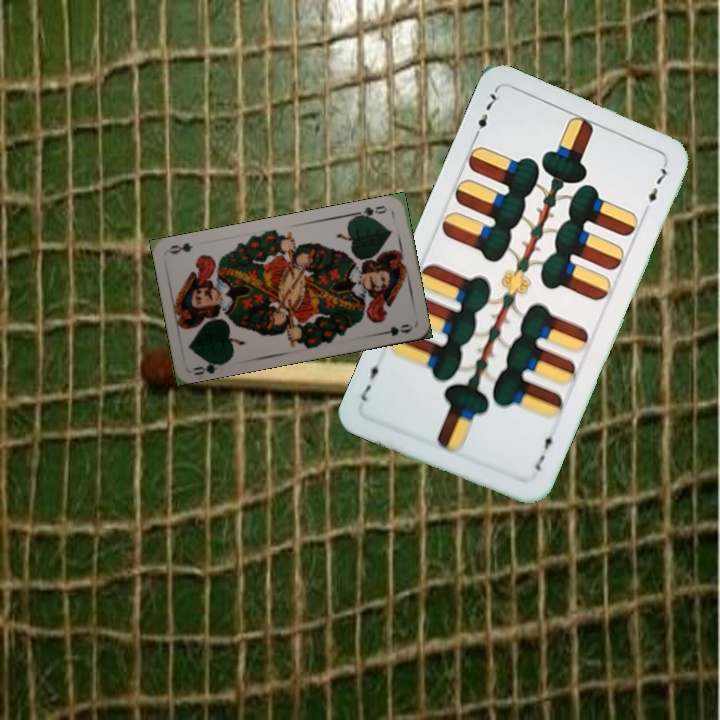E7: (469, 87, 503, 143), (531, 428, 558, 474)
GO: (190, 356, 229, 378), (351, 201, 390, 221)
